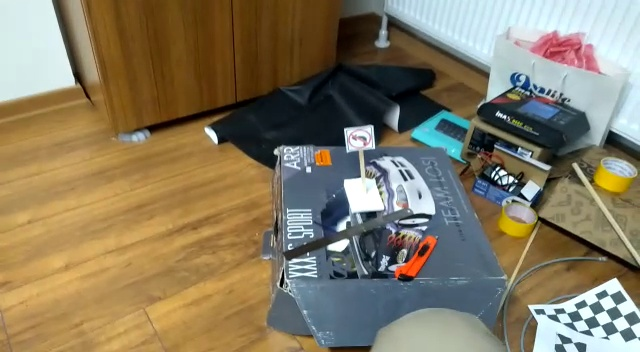sola_donulmez: (347, 126, 372, 150)
